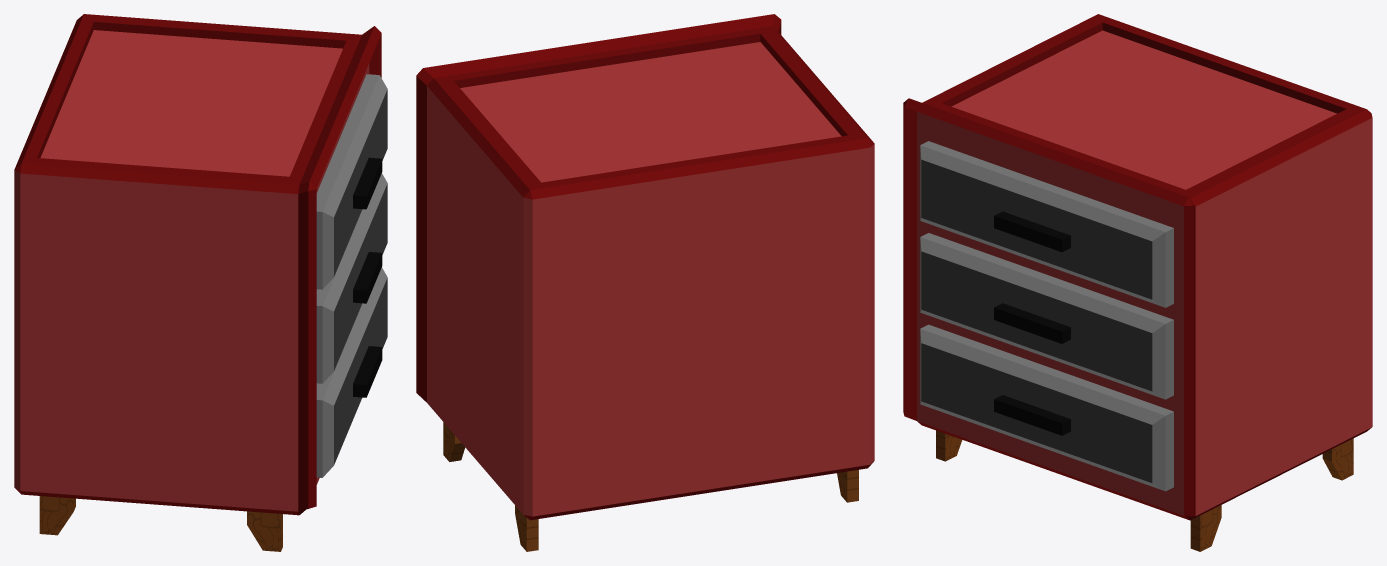
File: Mesa.fbx
3 views of the same model, side by side, from view 1: azimuth 30°, elevation 25°; view 2: azimuth 150°, elevation 25°; view 3: azimuth 270°, elevation 25° (orthographic). The views are drawn at different scales.
Parts seen in each view (by area): view 1: Mesa; view 2: Mesa; view 3: Mesa.
Part boxes in pixels (bbox=[...]): Mesa: bbox=[14, 14, 387, 551]; Mesa: bbox=[416, 14, 874, 551]; Mesa: bbox=[903, 14, 1372, 551].
Bounding box in the file's own units: 140 × 123 × 143.
